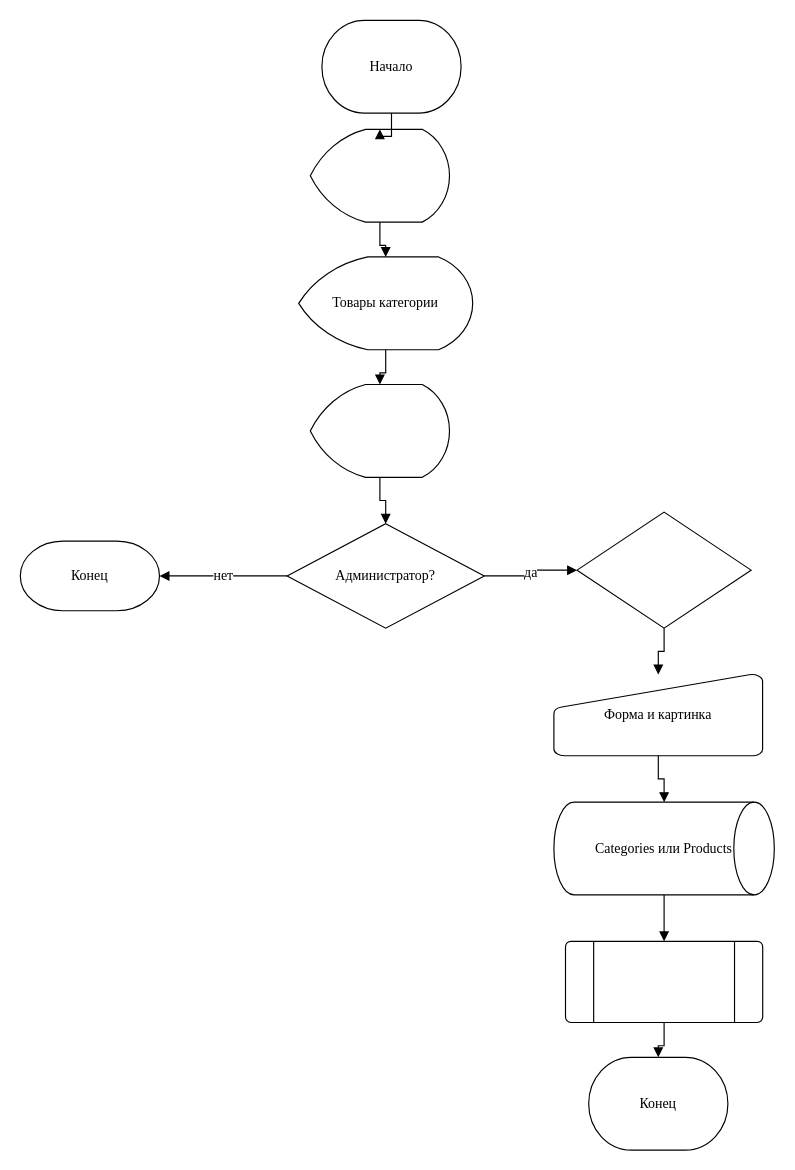
This 795x1170 diagram has some shape labels left out. The centre of each missing label's shape, as x and y in pixels:
Карточка товара: (x=379, y=430)
Операция?: (x=663, y=569)
Переход в каталог: (x=663, y=981)
Список категорий: (x=379, y=175)
